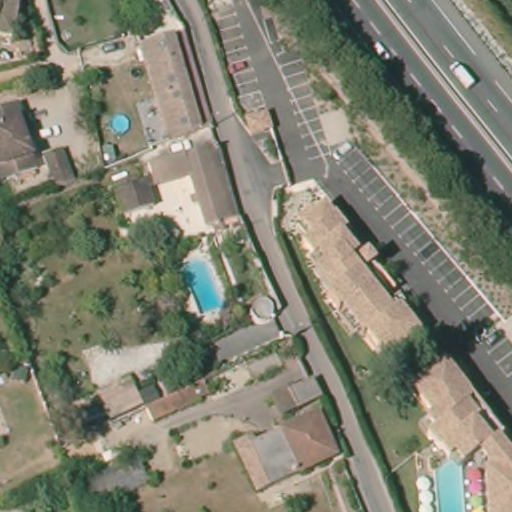pool: (177, 252, 229, 317), (428, 458, 468, 511), (108, 112, 131, 137)
